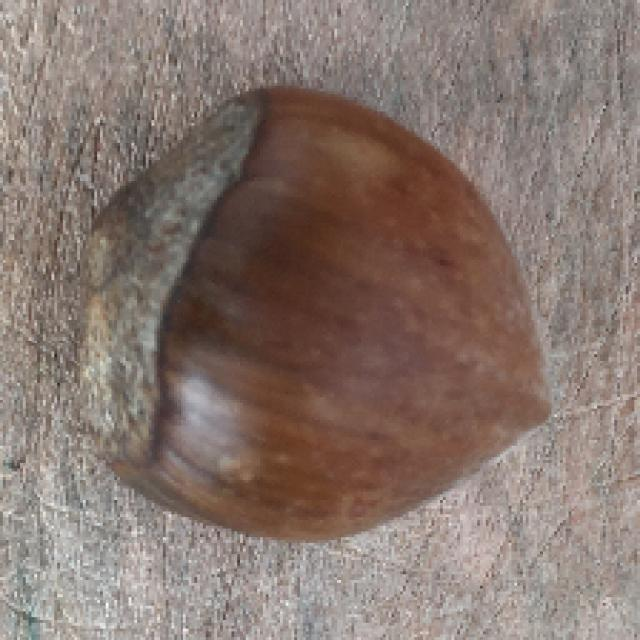qualityHazelnut: (77, 88, 568, 562)
